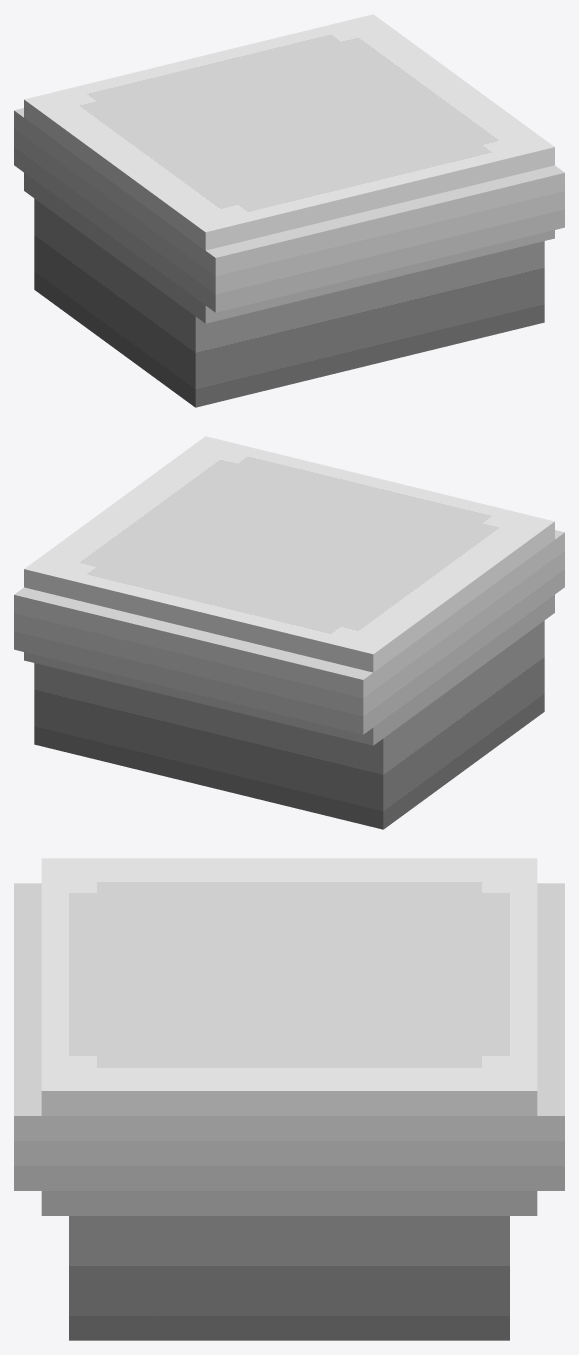
Rendered from half_top_middle.glb.
The picture shows the model from 3 angles, top to bottom: view 1: azimuth 30°, elevation 25°; view 2: azimuth 150°, elevation 25°; view 3: azimuth 270°, elevation 25°; orthographic projection. The views are drawn at different scales.
Parts seen in each view (by area): view 1: half_top_middle; view 2: half_top_middle; view 3: half_top_middle.
Part boxes in pixels (left/top/right/bottom): half_top_middle: left=14, top=14, right=564, bottom=407; half_top_middle: left=14, top=436, right=564, bottom=829; half_top_middle: left=14, top=858, right=564, bottom=1340.
Size of the model in its own units: 2 by 1 by 2.
1 material, 1 textured.
